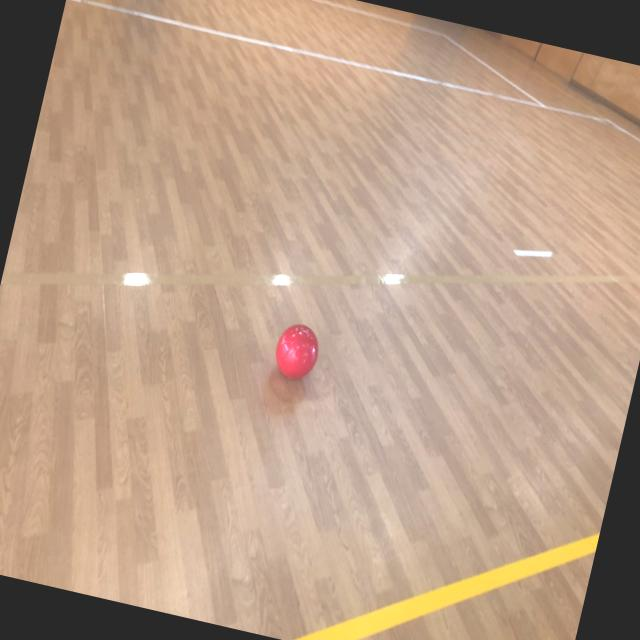red_ball: (268, 318, 324, 386)
